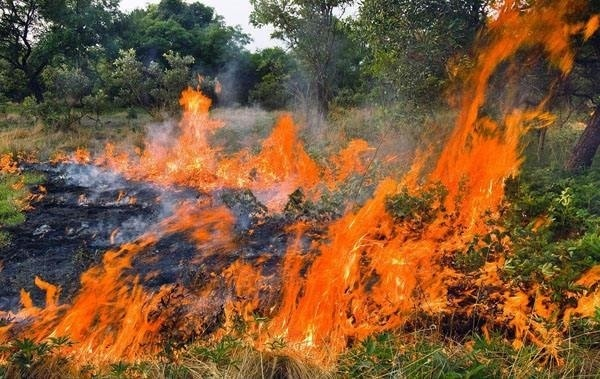fire: (7, 57, 514, 359)
